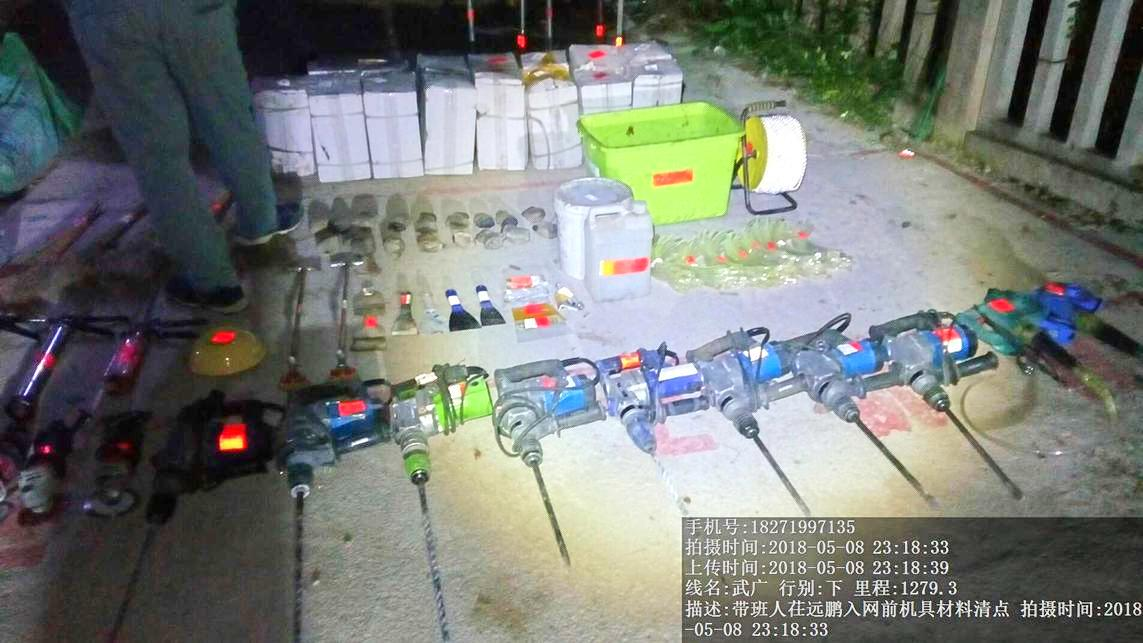DZ: (267, 385, 385, 518), (382, 376, 498, 508), (591, 342, 707, 452), (695, 335, 805, 446), (880, 317, 999, 413), (493, 364, 605, 466), (792, 325, 899, 426)
